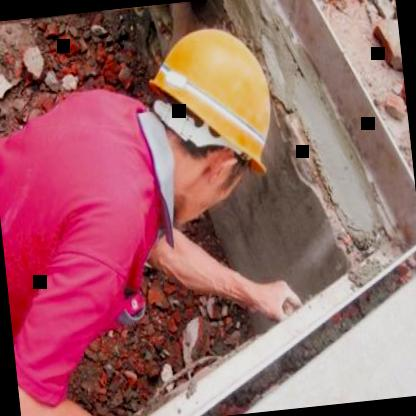helmet: (126, 6, 296, 231)
